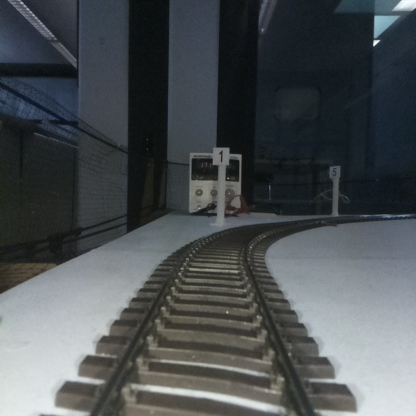white-info-1: (213, 148, 229, 225)
white-info-5: (329, 164, 340, 214)
